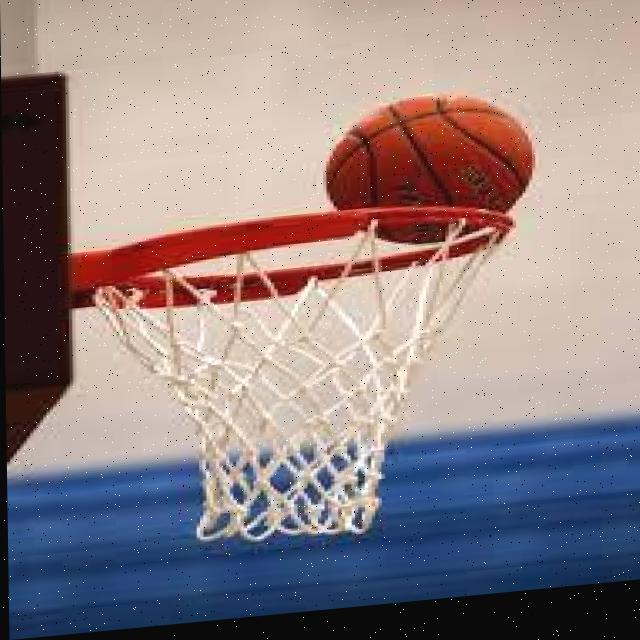basketball: (329, 88, 540, 252)
hoop: (98, 193, 520, 556)
